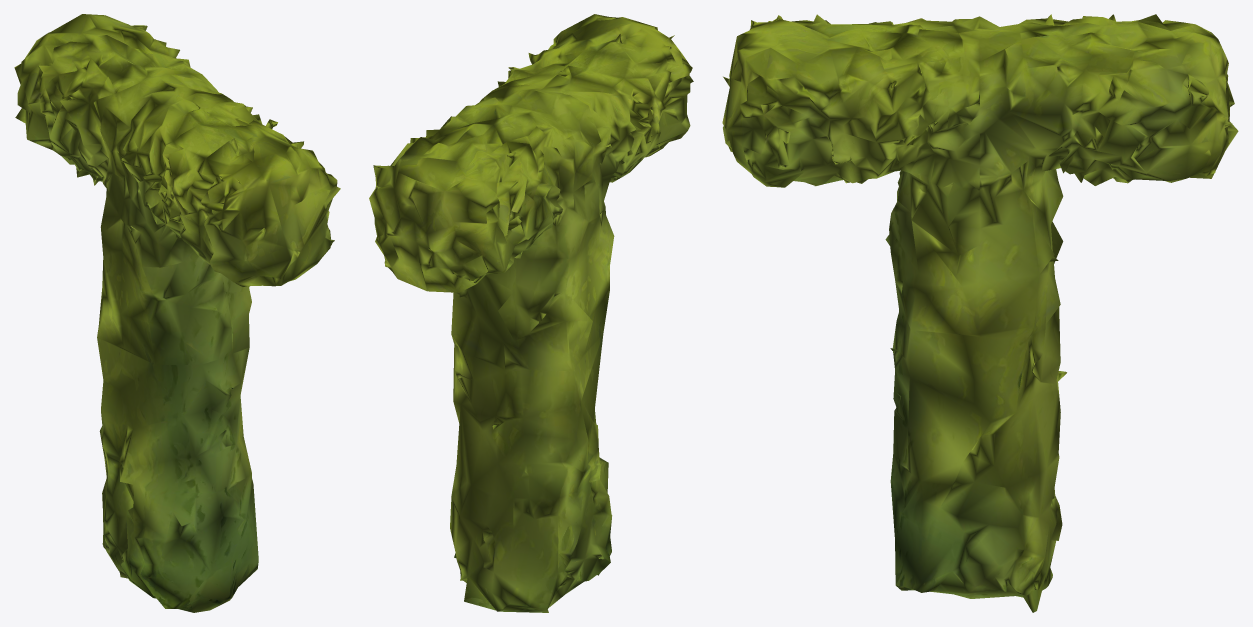
Rendered from hedge_tjunction.glb.
The picture shows the model from 3 angles, left to right: view 1: azimuth 30°, elevation 25°; view 2: azimuth 150°, elevation 25°; view 3: azimuth 270°, elevation 25°; orthographic projection. The views are drawn at different scales.
Visible parts, largest first — view 1: tripo_node_85e5cda9-5bf0-433e-a7ce-cb9c595f2fd4; view 2: tripo_node_85e5cda9-5bf0-433e-a7ce-cb9c595f2fd4; view 3: tripo_node_85e5cda9-5bf0-433e-a7ce-cb9c595f2fd4.
Part boxes in pixels (x1,y1,x2,y2): tripo_node_85e5cda9-5bf0-433e-a7ce-cb9c595f2fd4: (14,14,340,612); tripo_node_85e5cda9-5bf0-433e-a7ce-cb9c595f2fd4: (369,14,693,612); tripo_node_85e5cda9-5bf0-433e-a7ce-cb9c595f2fd4: (722,14,1238,612).
Size of the model in its own units: 0.2808 by 0.9905 by 0.8073.
Materials: 1 (1 with a texture image).
